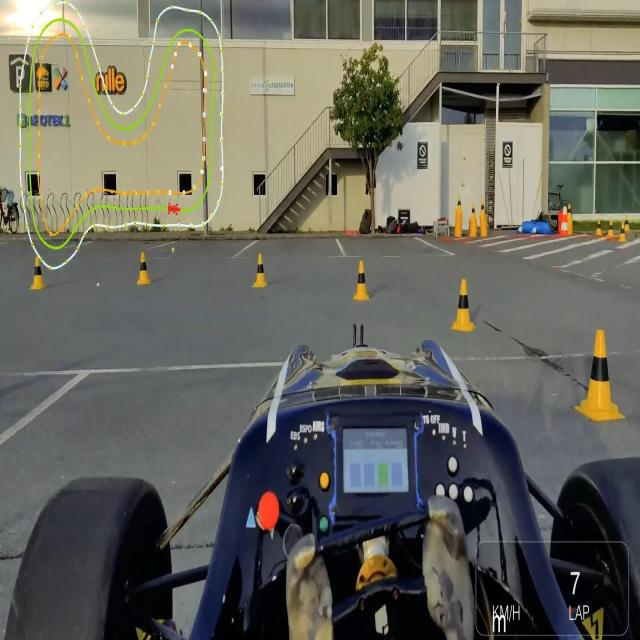large_orange_cone: (560, 203, 568, 239)
yellow_cone: (574, 326, 626, 425), (448, 276, 478, 338), (351, 258, 372, 304), (250, 252, 268, 292), (134, 250, 152, 288), (29, 254, 46, 291), (608, 217, 615, 238), (618, 221, 624, 244), (596, 216, 602, 238), (625, 214, 630, 232)
